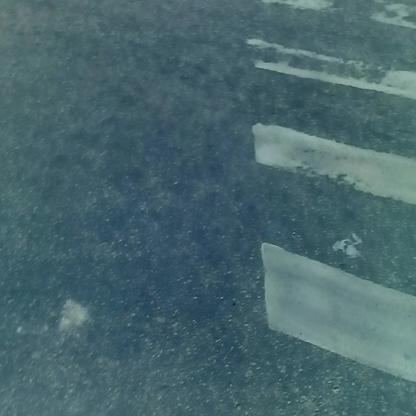crosswalk: (246, 12, 412, 385)
